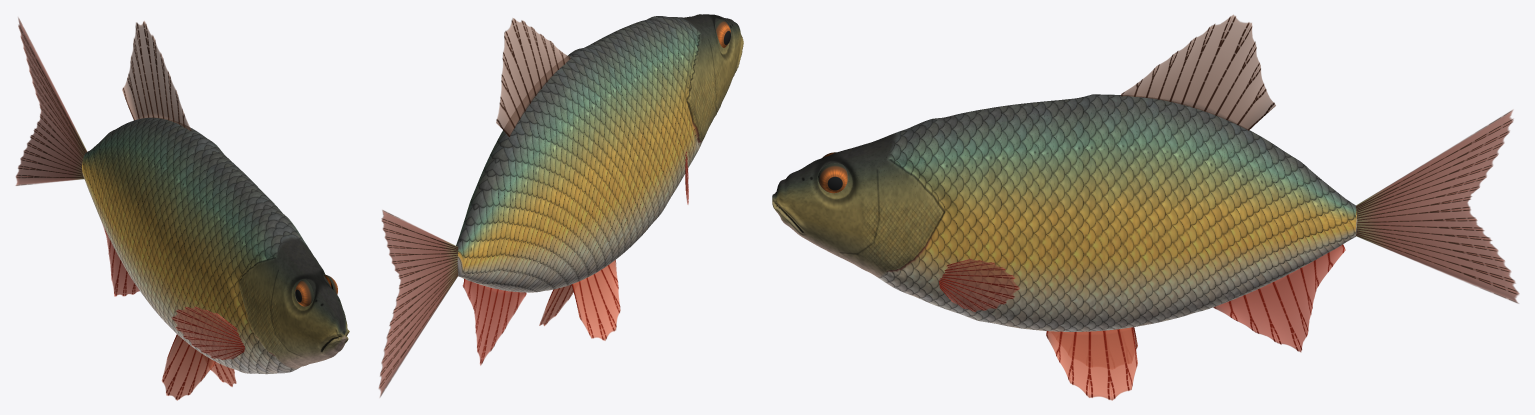
File: wzdrega.glb
The picture shows the model from 3 angles, left to right: view 1: azimuth 30°, elevation 25°; view 2: azimuth 150°, elevation 25°; view 3: azimuth 270°, elevation 25°; orthographic projection. The views are drawn at different scales.
Visible parts, largest first — view 1: Body, FinCaudal, FinDorsal1, FinPectoral, FinPelvic, FinAnal, EyeLeft; view 2: Body, FinCaudal, FinDorsal1, FinPelvic, FinAnal, EyeLeft; view 3: Body, FinCaudal, FinDorsal1, FinAnal, FinPelvic, FinPectoral, EyeRight.
Boxes of the visible parts, <box> form: Body: <box>82,117,349,374</box>; FinCaudal: <box>15,17,87,185</box>; FinDorsal1: <box>122,21,191,130</box>; FinPectoral: <box>171,306,244,359</box>; FinPelvic: <box>162,334,236,400</box>; FinAnal: <box>102,224,139,296</box>; EyeLeft: <box>295,279,314,306</box>; Body: <box>456,14,743,292</box>; FinCaudal: <box>378,210,458,396</box>; FinDorsal1: <box>496,18,570,136</box>; FinPelvic: <box>539,260,620,340</box>; FinAnal: <box>462,279,526,365</box>; EyeLeft: <box>715,19,730,47</box>; Body: <box>772,94,1357,331</box>; FinCaudal: <box>1356,109,1519,303</box>; FinDorsal1: <box>1121,14,1275,130</box>; FinAnal: <box>1213,244,1345,352</box>; FinPelvic: <box>1046,327,1137,400</box>; FinPectoral: <box>938,259,1019,311</box>; EyeRight: <box>818,163,847,193</box>.
Size of the model in its own units: 0.2248 by 0.5502 by 1.
Materials: 8 (7 with a texture image).
